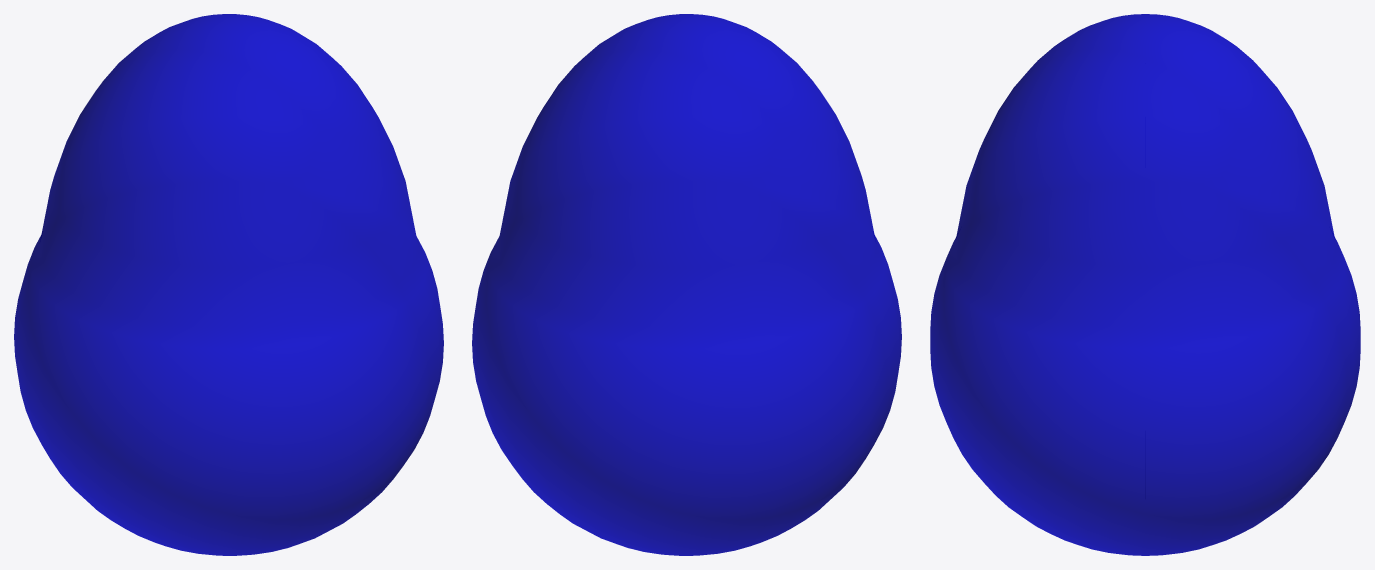
File: blobb_new.fbx
The picture shows the model from 3 angles, left to right: view 1: azimuth 30°, elevation 25°; view 2: azimuth 150°, elevation 25°; view 3: azimuth 270°, elevation 25°; orthographic projection.
Visible parts, largest first — view 1: Blobb; view 2: Blobb; view 3: Blobb.
Boxes of the visible parts, box(x1,y1,x2,y2) form: Blobb: box(14, 14, 443, 555); Blobb: box(472, 14, 901, 555); Blobb: box(930, 14, 1360, 555).
Bounding box in the file's own units: 199 × 260 × 199.
